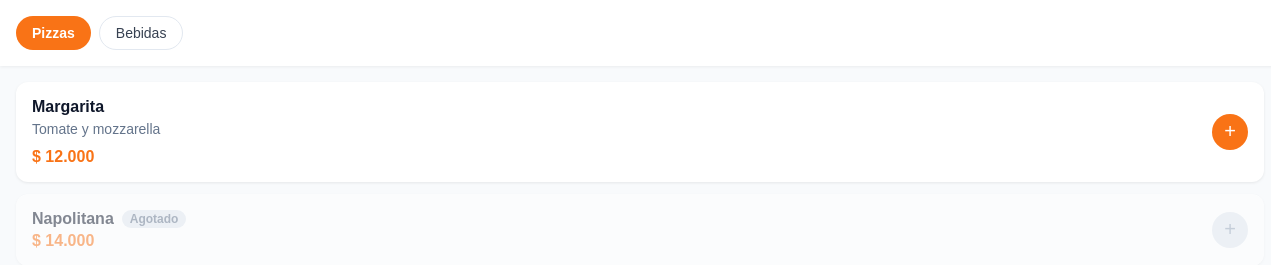
MenuPage › switching category tab shows items of the selected category only
The image size is (1271, 265).
Expected: the text "Margarita" is shown, left=32, top=98, right=104, bottom=116
Click the button "Bebidas" at coordinates (141, 33), box left=99, top=16, right=183, bottom=50
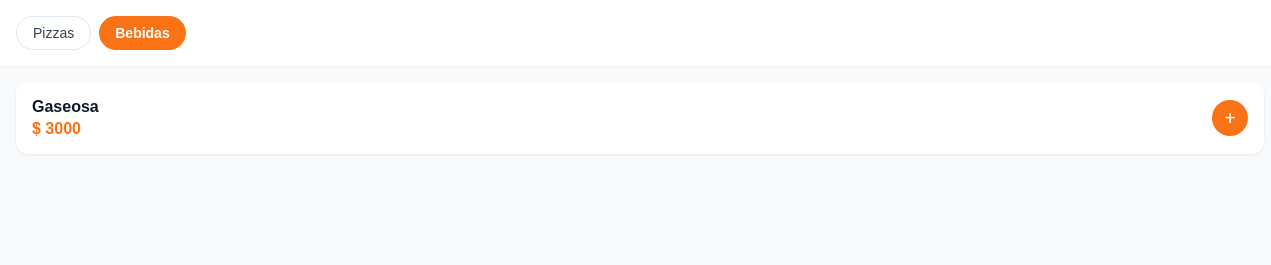
Now the button "Margarita" is gone
Now the text "Gaseosa" is shown, box left=32, top=98, right=99, bottom=116
